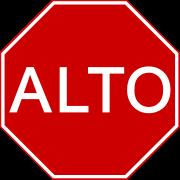Stop: (9, 30, 178, 139)
